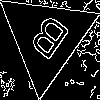B: (21, 12, 72, 69)
